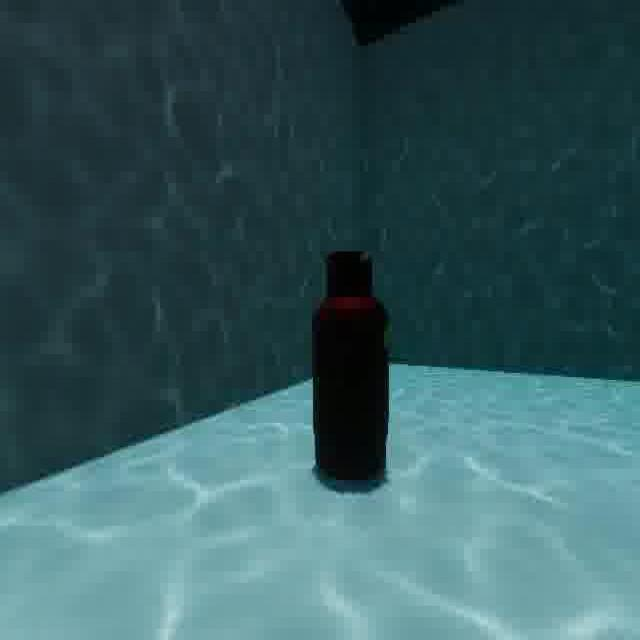Cylinder: (306, 233, 401, 488)
